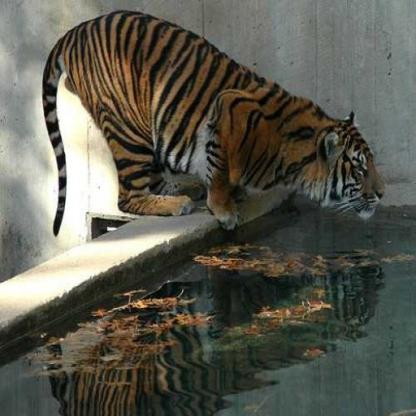Tiger: (28, 1, 402, 251)
